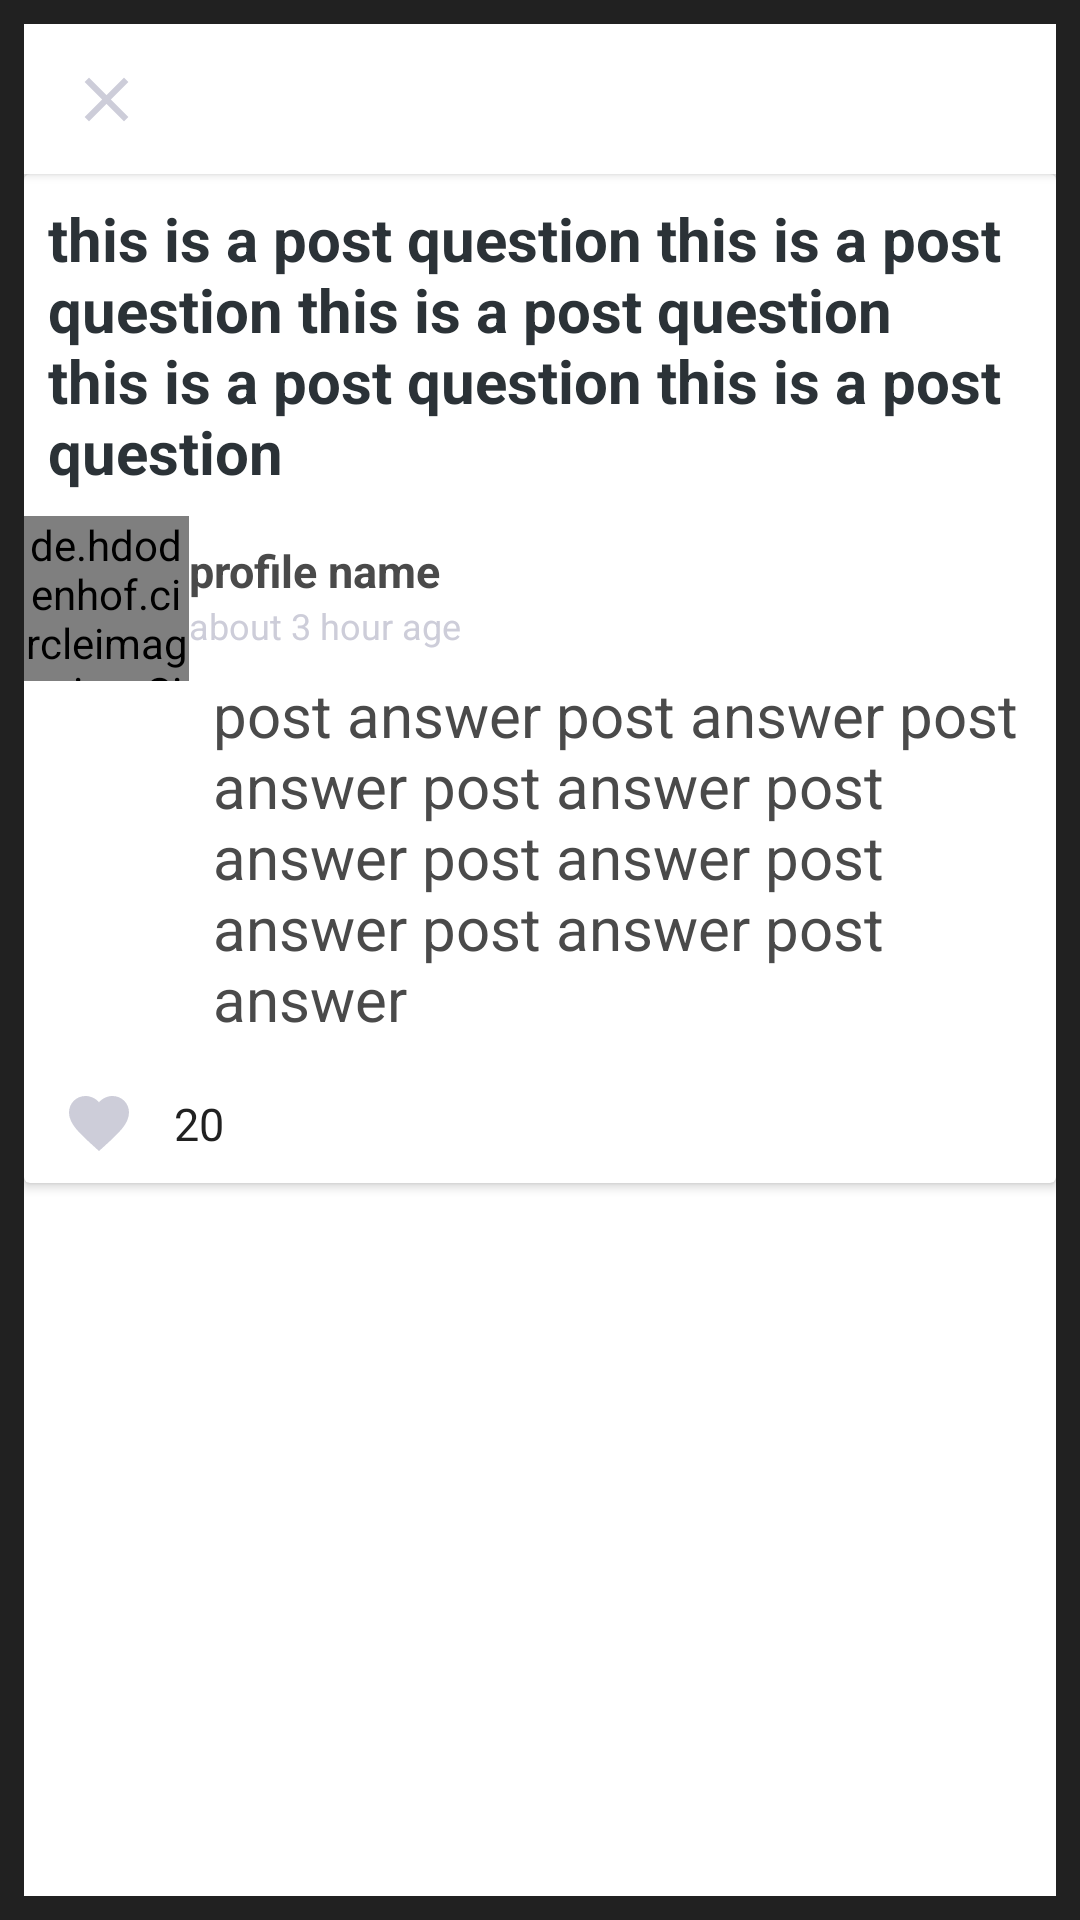

Named icons in this screenshot (1080 x 1920) and their bounding boxes, (x1, y1, x2, y2):
clear: (85, 78, 128, 121)
like: (69, 1096, 129, 1151)
